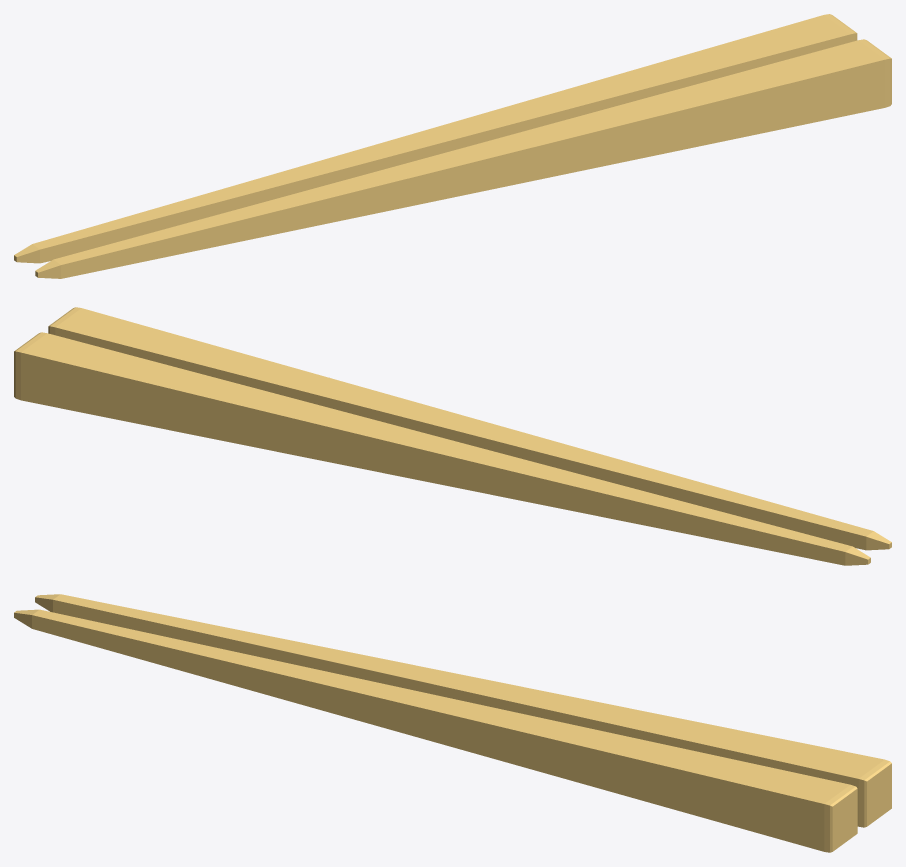
The model's file is Tagib.fbx.
3 renders of one model, top to bottom at view 1: azimuth 30°, elevation 25°; view 2: azimuth 150°, elevation 25°; view 3: azimuth 330°, elevation 25°, orthographic.
Visible parts, largest first — view 1: Cube1; view 2: Cube1; view 3: Cube1.
Boxes of the visible parts, bbox=[...] form: Cube1: bbox=[14, 14, 891, 278]; Cube1: bbox=[14, 307, 891, 565]; Cube1: bbox=[14, 594, 891, 852].
Bounding box in the file's own units: 1741 × 220 × 95.61.
1 material, 1 textured.
